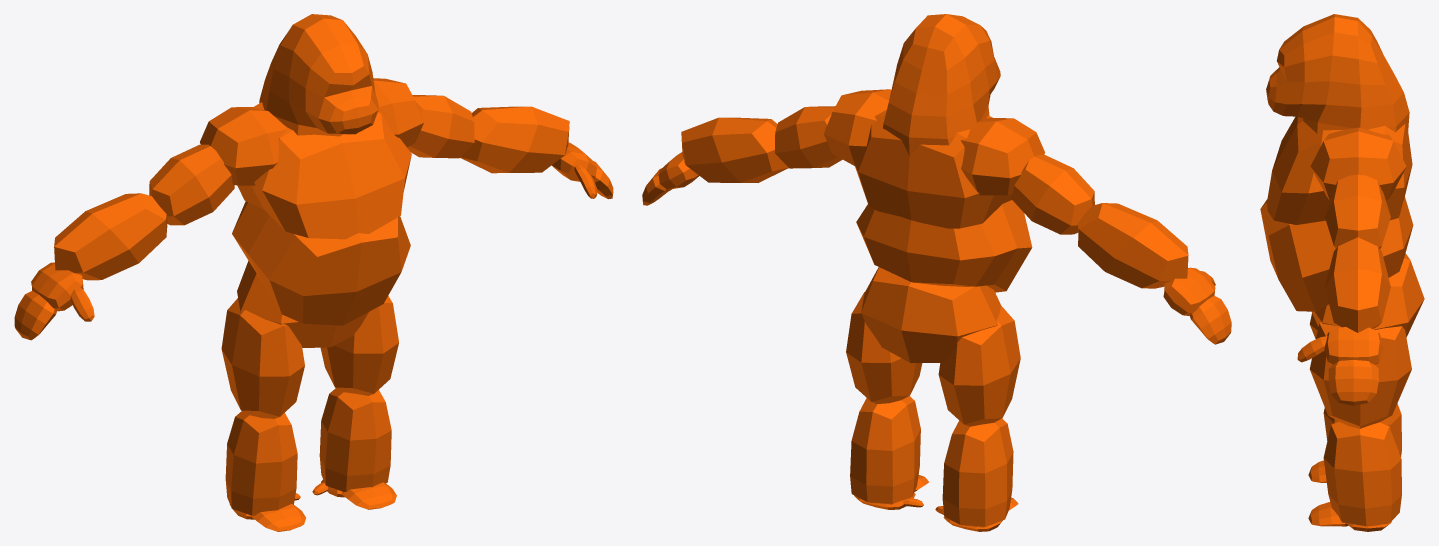
Rendered from low_poly_rigged_gorilla.glb.
3 renders of one model, left to right at view 1: azimuth 30°, elevation 25°; view 2: azimuth 150°, elevation 25°; view 3: azimuth 270°, elevation 25°, orthographic. The views are drawn at different scales.
Visible parts, largest first — view 1: Torso_32, Belly_34, Head_6, Thigh.R_50, Forearm.R_26, Shin.L_40, Shin.R_48, Forearm.L_14, Bisep.R_28, Thigh.L_42, Shoulder.R_30, Bisep.L_16 (+7 smaller); view 2: Head_6, Belly_34, Torso_32, Waiste_52, Forearm.R_26, Shin.R_48, Shin.L_40, Thigh.R_50, Forearm.L_14, Shoulder.R_30, Bisep.R_28, Thigh.L_42 (+5 smaller); view 3: Head_6, Shin.L_40, Belly_34, Torso_32, Forearm.L_14, Thigh.L_42, Shouder.L_18, Bisep.L_16, Waiste_52, Fingers.L_8, Hand.L_12, Shin.R_48 (+4 smaller).
Part boxes in pixels (box(x1,y1,x2,y2)): Torso_32: box(237, 102, 411, 239); Belly_34: box(232, 201, 410, 325); Head_6: box(259, 14, 378, 136); Thigh.R_50: box(221, 298, 304, 418); Forearm.R_26: box(54, 193, 167, 280); Shin.L_40: box(319, 388, 391, 491); Shin.R_48: box(225, 411, 297, 515); Forearm.L_14: box(460, 106, 569, 173); Bisep.R_28: box(149, 144, 234, 225); Thigh.L_42: box(320, 296, 398, 395); Shoulder.R_30: box(200, 107, 286, 185); Bisep.L_16: box(407, 95, 474, 158); Head_6: box(883, 14, 1000, 155); Belly_34: box(856, 200, 1032, 292); Torso_32: box(855, 110, 1011, 228); Waiste_52: box(861, 267, 1000, 362); Forearm.R_26: box(1077, 203, 1188, 288); Shin.R_48: box(942, 418, 1013, 527); Shin.L_40: box(850, 396, 920, 504); Thigh.R_50: box(938, 305, 1020, 426); Forearm.L_14: box(681, 117, 788, 182); Shoulder.R_30: box(960, 118, 1044, 195); Bisep.R_28: box(1011, 155, 1094, 234); Thigh.L_42: box(846, 292, 922, 403); Head_6: box(1266, 14, 1409, 133); Shin.L_40: box(1323, 421, 1401, 526); Belly_34: box(1260, 197, 1413, 311); Torso_32: box(1267, 116, 1412, 224); Forearm.L_14: box(1325, 237, 1390, 332); Thigh.L_42: box(1309, 322, 1411, 428); Shouder.L_18: box(1310, 127, 1406, 200); Bisep.L_16: box(1325, 174, 1390, 248); Waiste_52: box(1312, 253, 1424, 337); Fingers.L_8: box(1328, 359, 1378, 405); Hand.L_12: box(1324, 327, 1383, 364); Shin.R_48: box(1323, 403, 1401, 456).
Size of the model in its own units: 2.06 by 1.66 by 0.5097.
